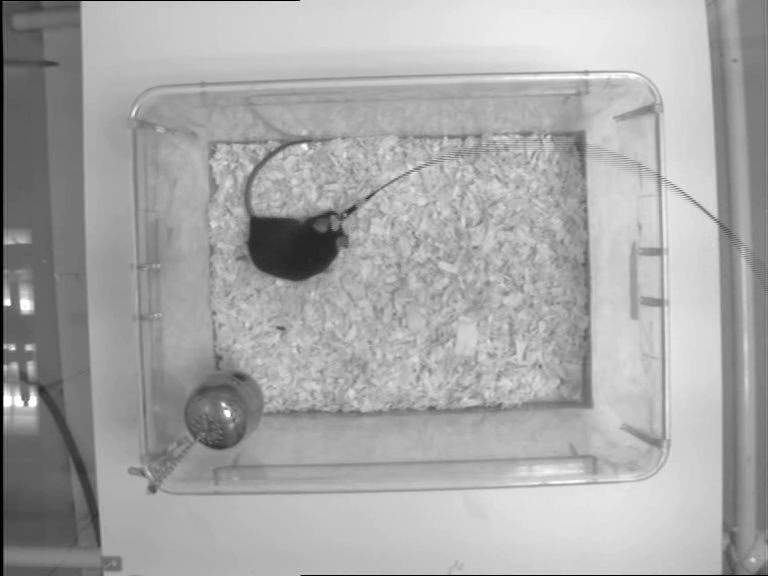mice: (237, 135, 350, 280)
